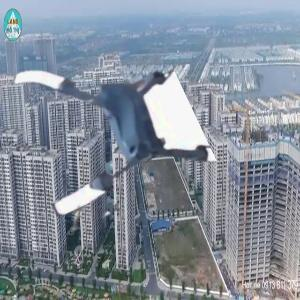drone: (12, 34, 190, 212)
